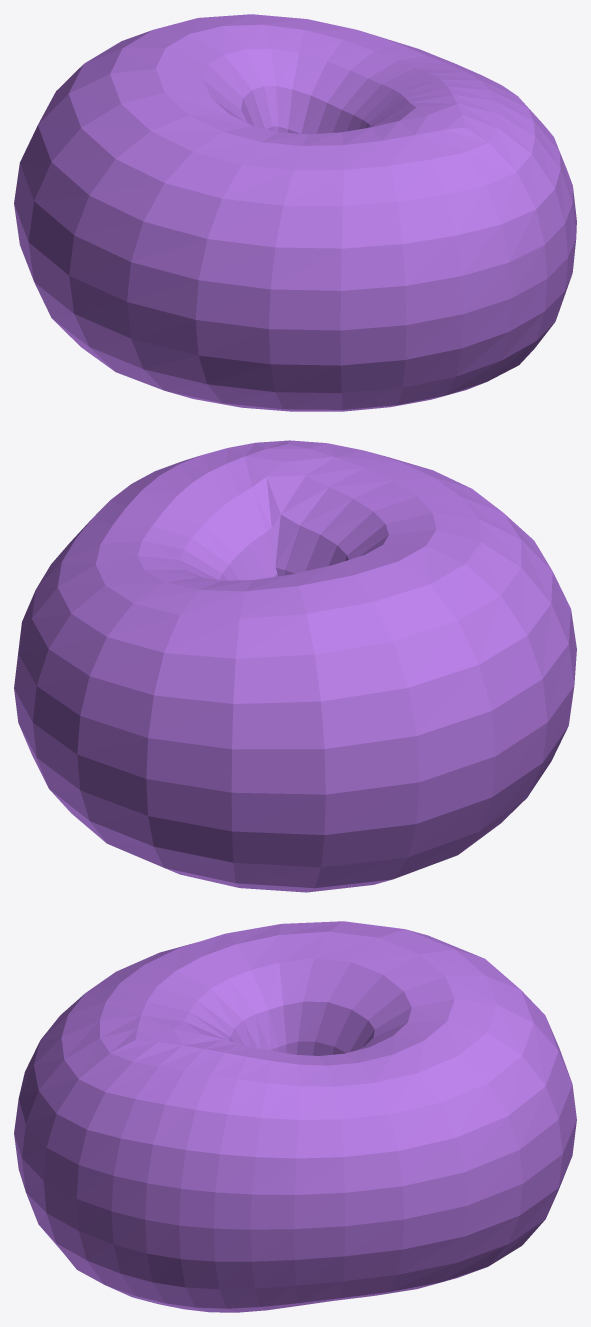
3 views of the same model, one above another, from view 1: azimuth 30°, elevation 25°; view 2: azimuth 150°, elevation 25°; view 3: azimuth 270°, elevation 25° (orthographic). The views are drawn at different scales.
Size of the model in its own units: 0.9121 by 0.5325 by 0.9901.
